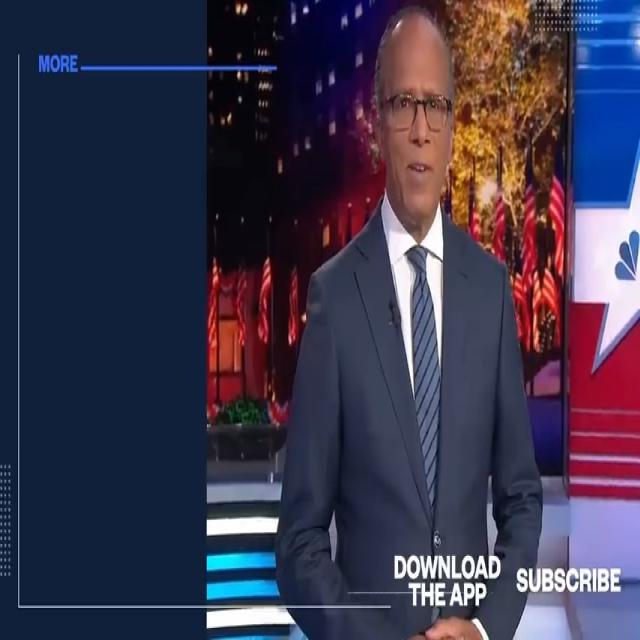non-fight: (266, 7, 559, 640)
